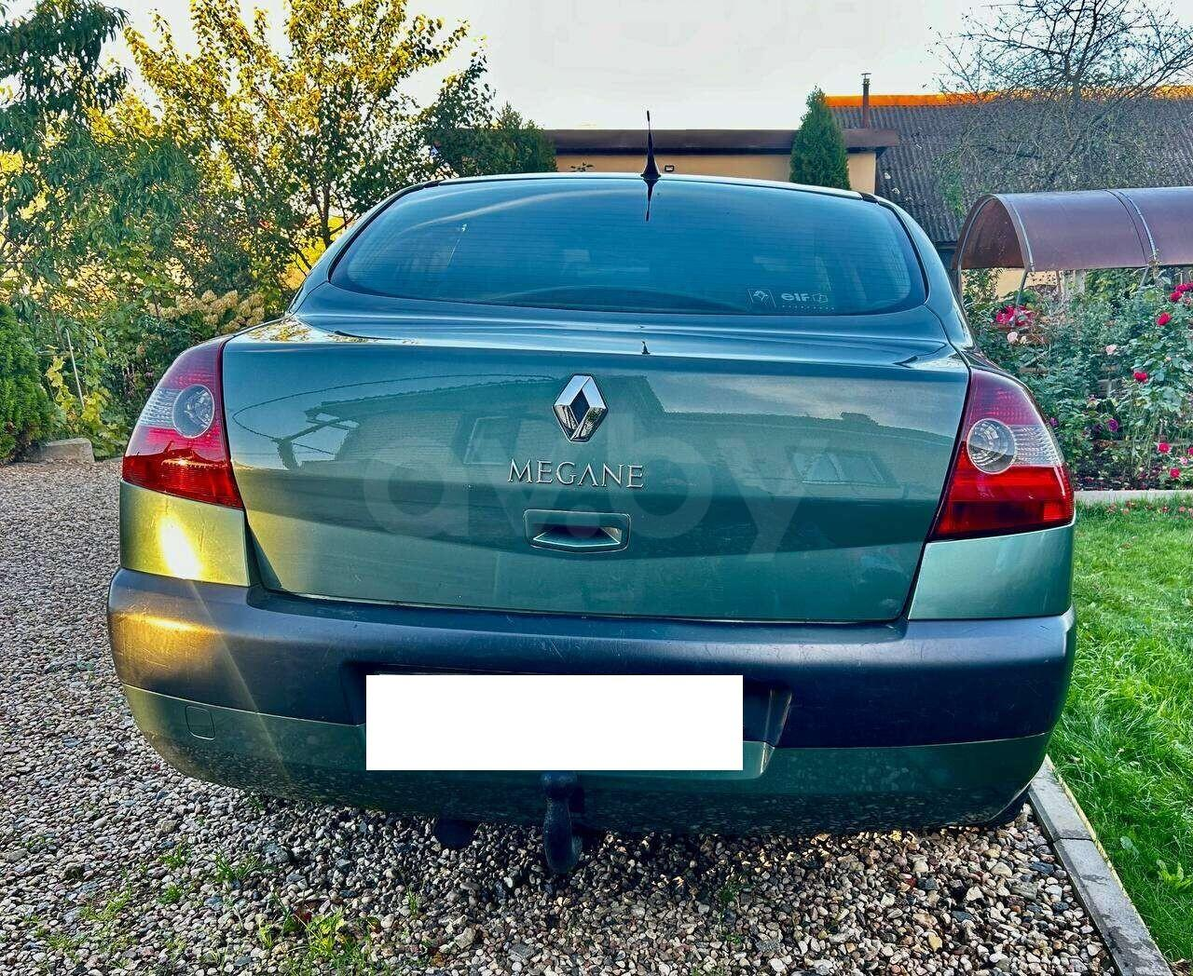Megane_2002-2006: (113, 158, 1080, 858)
